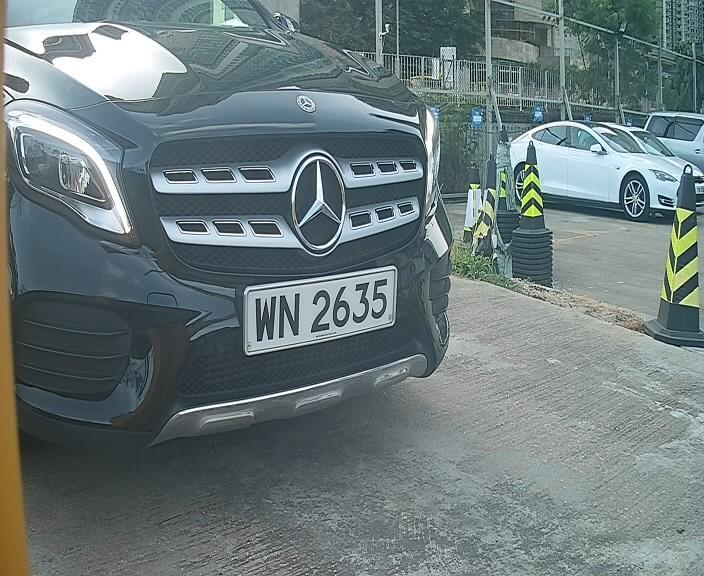privatecar: (5, 1, 471, 468)
